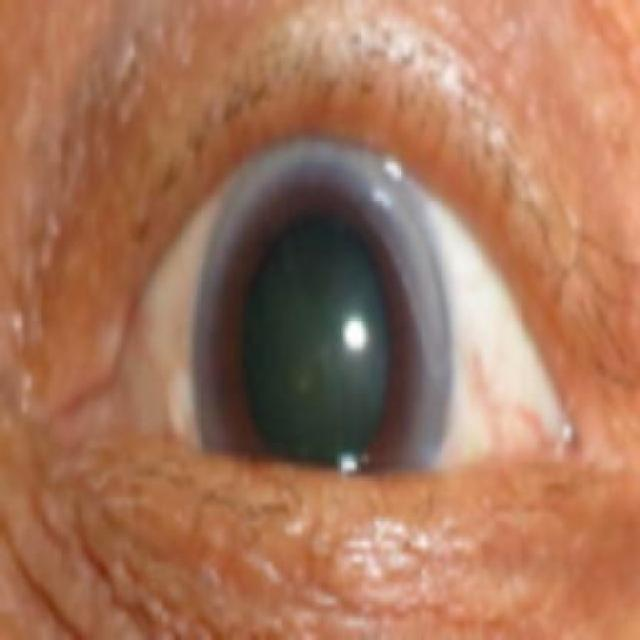Cataract: (187, 136, 456, 520)
